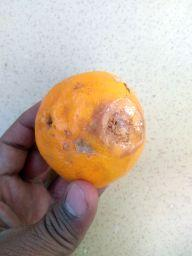Unripe: (35, 72, 145, 191)
